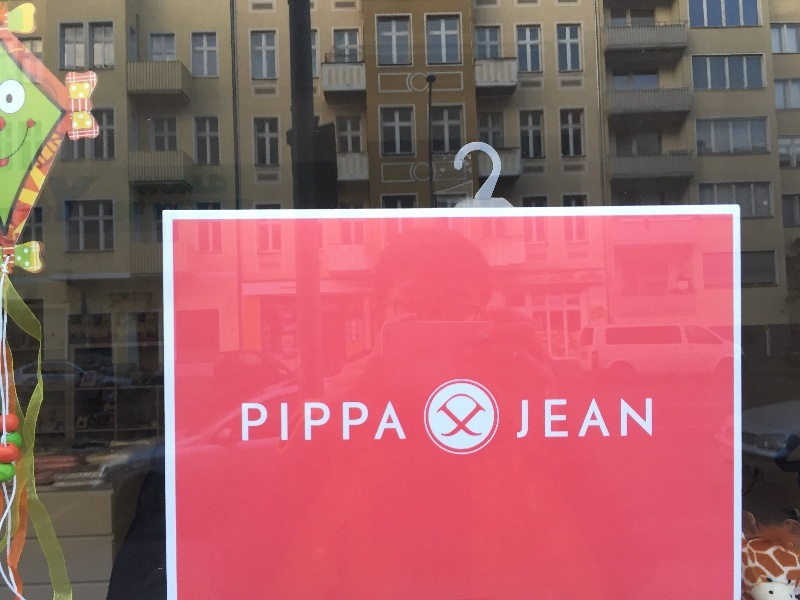text: (529, 398, 544, 441), (545, 398, 560, 441), (561, 398, 576, 441), (577, 398, 592, 441), (593, 398, 608, 441), (609, 398, 624, 441), (625, 398, 640, 441), (241, 401, 256, 443), (257, 401, 272, 443), (273, 401, 288, 443), (289, 401, 304, 443), (305, 401, 320, 443), (321, 401, 336, 443), (337, 401, 352, 443), (353, 401, 368, 443), (369, 401, 384, 443), (385, 401, 400, 443), (516, 398, 528, 441), (641, 398, 653, 441), (401, 401, 408, 443)
